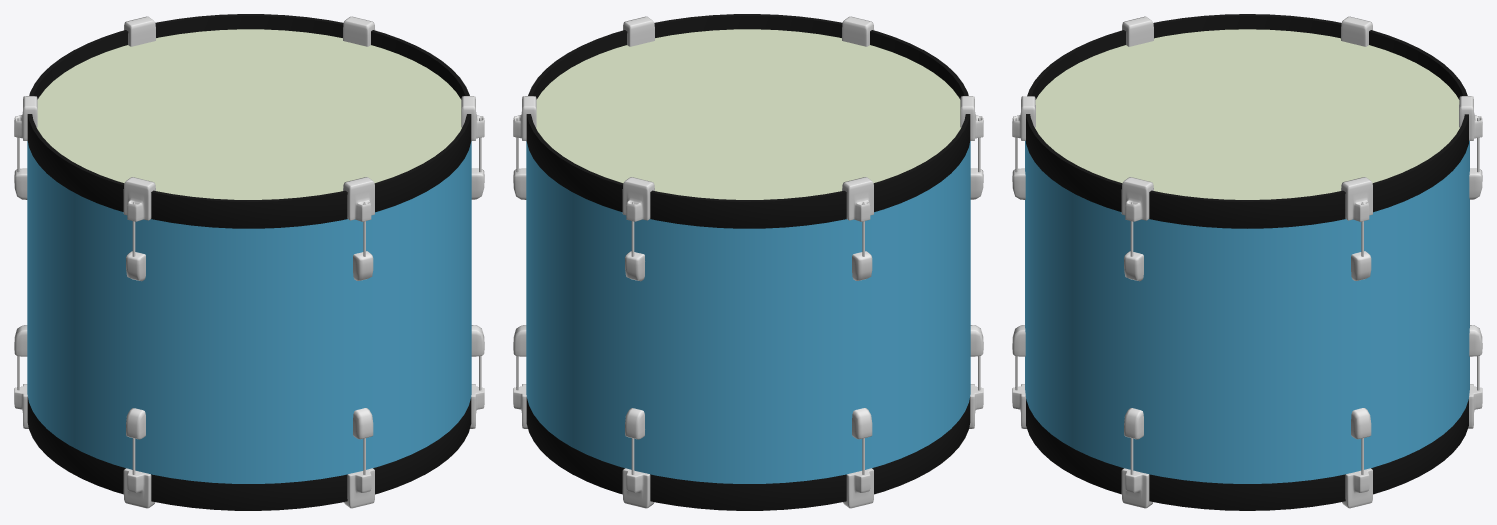
Rendered from Rack Tom Large Model.fbx.
3 renders of one model, left to right at view 1: azimuth 30°, elevation 25°; view 2: azimuth 150°, elevation 25°; view 3: azimuth 270°, elevation 25°, orthographic.
Parts seen in each view (by area): view 1: Rack Tom Large; view 2: Rack Tom Large; view 3: Rack Tom Large.
Boxes of the visible parts, x1,y1,x2,y2 form: Rack Tom Large: [14, 14, 484, 510]; Rack Tom Large: [513, 14, 983, 510]; Rack Tom Large: [1012, 14, 1482, 510].
Size of the model in its own units: 0.3 by 0.2398 by 0.3172.
